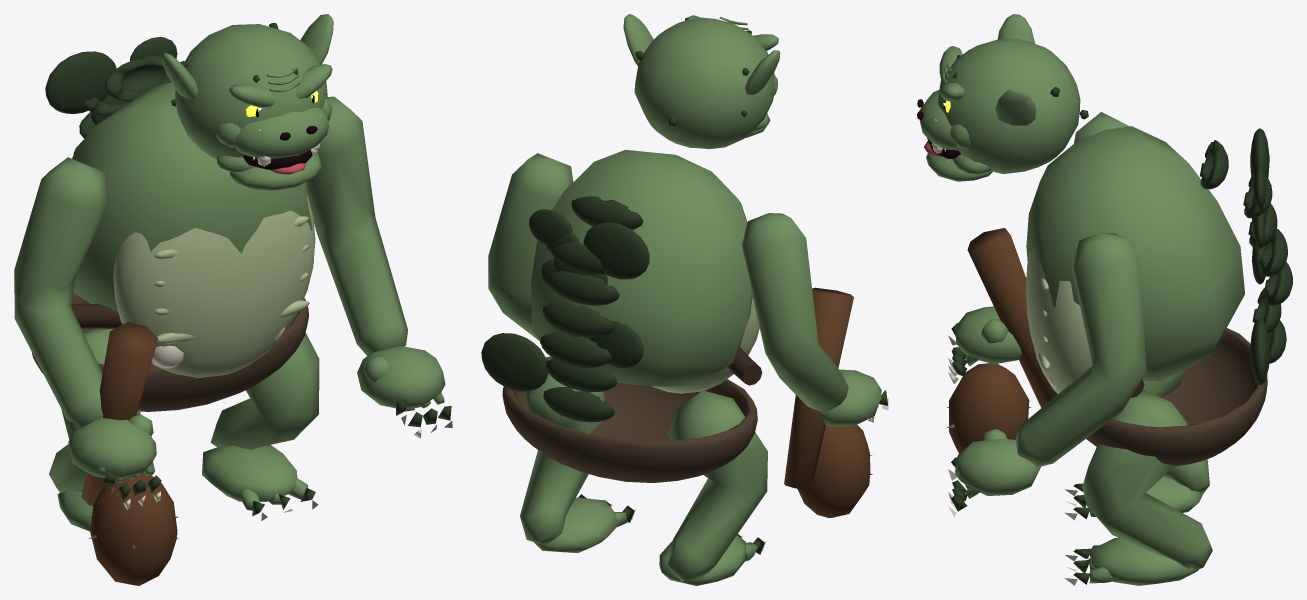
Rendered from kaempe_0.glb.
3 views of the same model, side by side, from view 1: azimuth 30°, elevation 25°; view 2: azimuth 150°, elevation 25°; view 3: azimuth 270°, elevation 25° (orthographic). The views are drawn at different scales.
Parts seen in each view (by area): view 1: krop_net, armH_net, hoved_net, armV_net, benV_net, benH_net; view 2: krop_net, armH_net, hoved_net, benH_net, benV_net, armV_net; view 3: krop_net, armV_net, hoved_net, benV_net, armH_net, benH_net.
Part boxes in pixels (box(x1,y1,x2,y2)): krop_net: box(32, 37, 315, 411); armH_net: box(14, 157, 179, 585); hoved_net: box(162, 14, 333, 190); armV_net: box(307, 96, 452, 438); benV_net: box(202, 332, 319, 520); benH_net: box(49, 329, 140, 531); krop_net: box(481, 149, 762, 482); armH_net: box(742, 213, 888, 517); hoved_net: box(623, 14, 780, 149); benH_net: box(659, 390, 767, 585); benV_net: box(520, 358, 635, 552); armV_net: box(488, 153, 573, 343); krop_net: box(1026, 126, 1292, 466); armV_net: box(948, 232, 1146, 517); hoved_net: box(917, 14, 1088, 181); benV_net: box(1064, 390, 1212, 585); armH_net: box(946, 112, 1128, 453); benH_net: box(1065, 369, 1209, 520).
Size of the model in its own units: 2.29 by 3.2 by 2.19.
